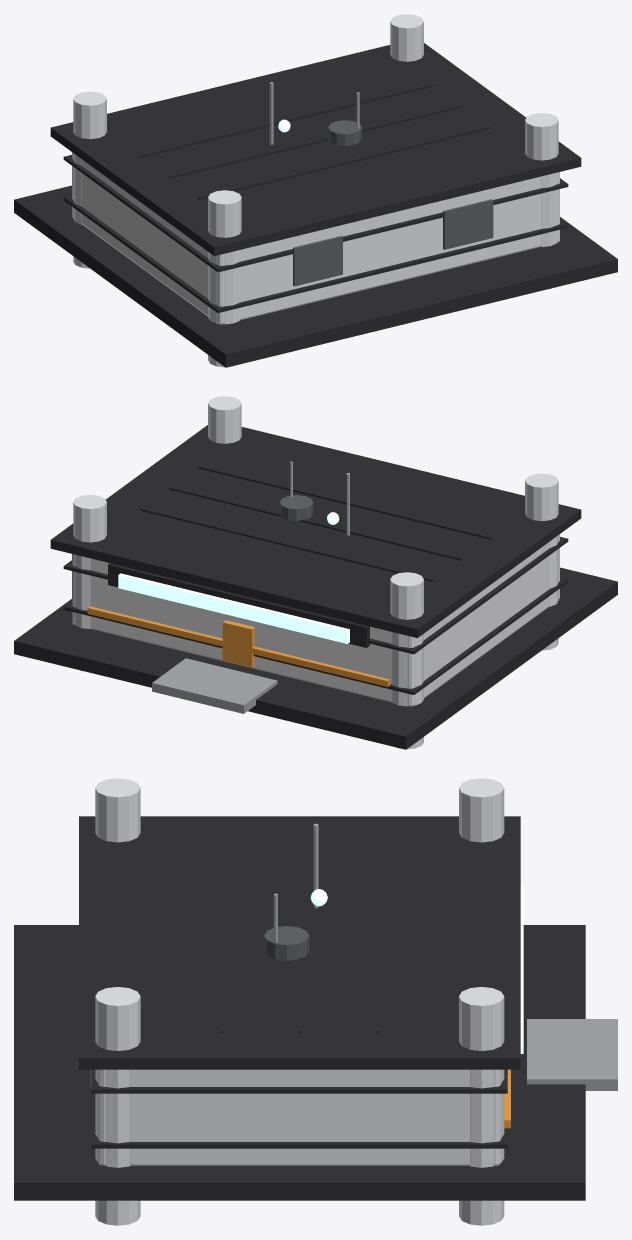
Rendered from SM_Hero_OPS.fbx.
3 views of the same model, one above another, from view 1: azimuth 30°, elevation 25°; view 2: azimuth 150°, elevation 25°; view 3: azimuth 270°, elevation 25° (orthographic). The views are drawn at different scales.
Parts seen in each view (by area): view 1: SM_Hero_OPS; view 2: SM_Hero_OPS; view 3: SM_Hero_OPS.
Boxes of the visible parts, box(x1,y1,x2,y2) form: SM_Hero_OPS: box(14, 14, 617, 367); SM_Hero_OPS: box(14, 396, 617, 749); SM_Hero_OPS: box(14, 778, 617, 1225).
Bounding box in the file's own units: 5.64 × 2.67 × 5.58.
